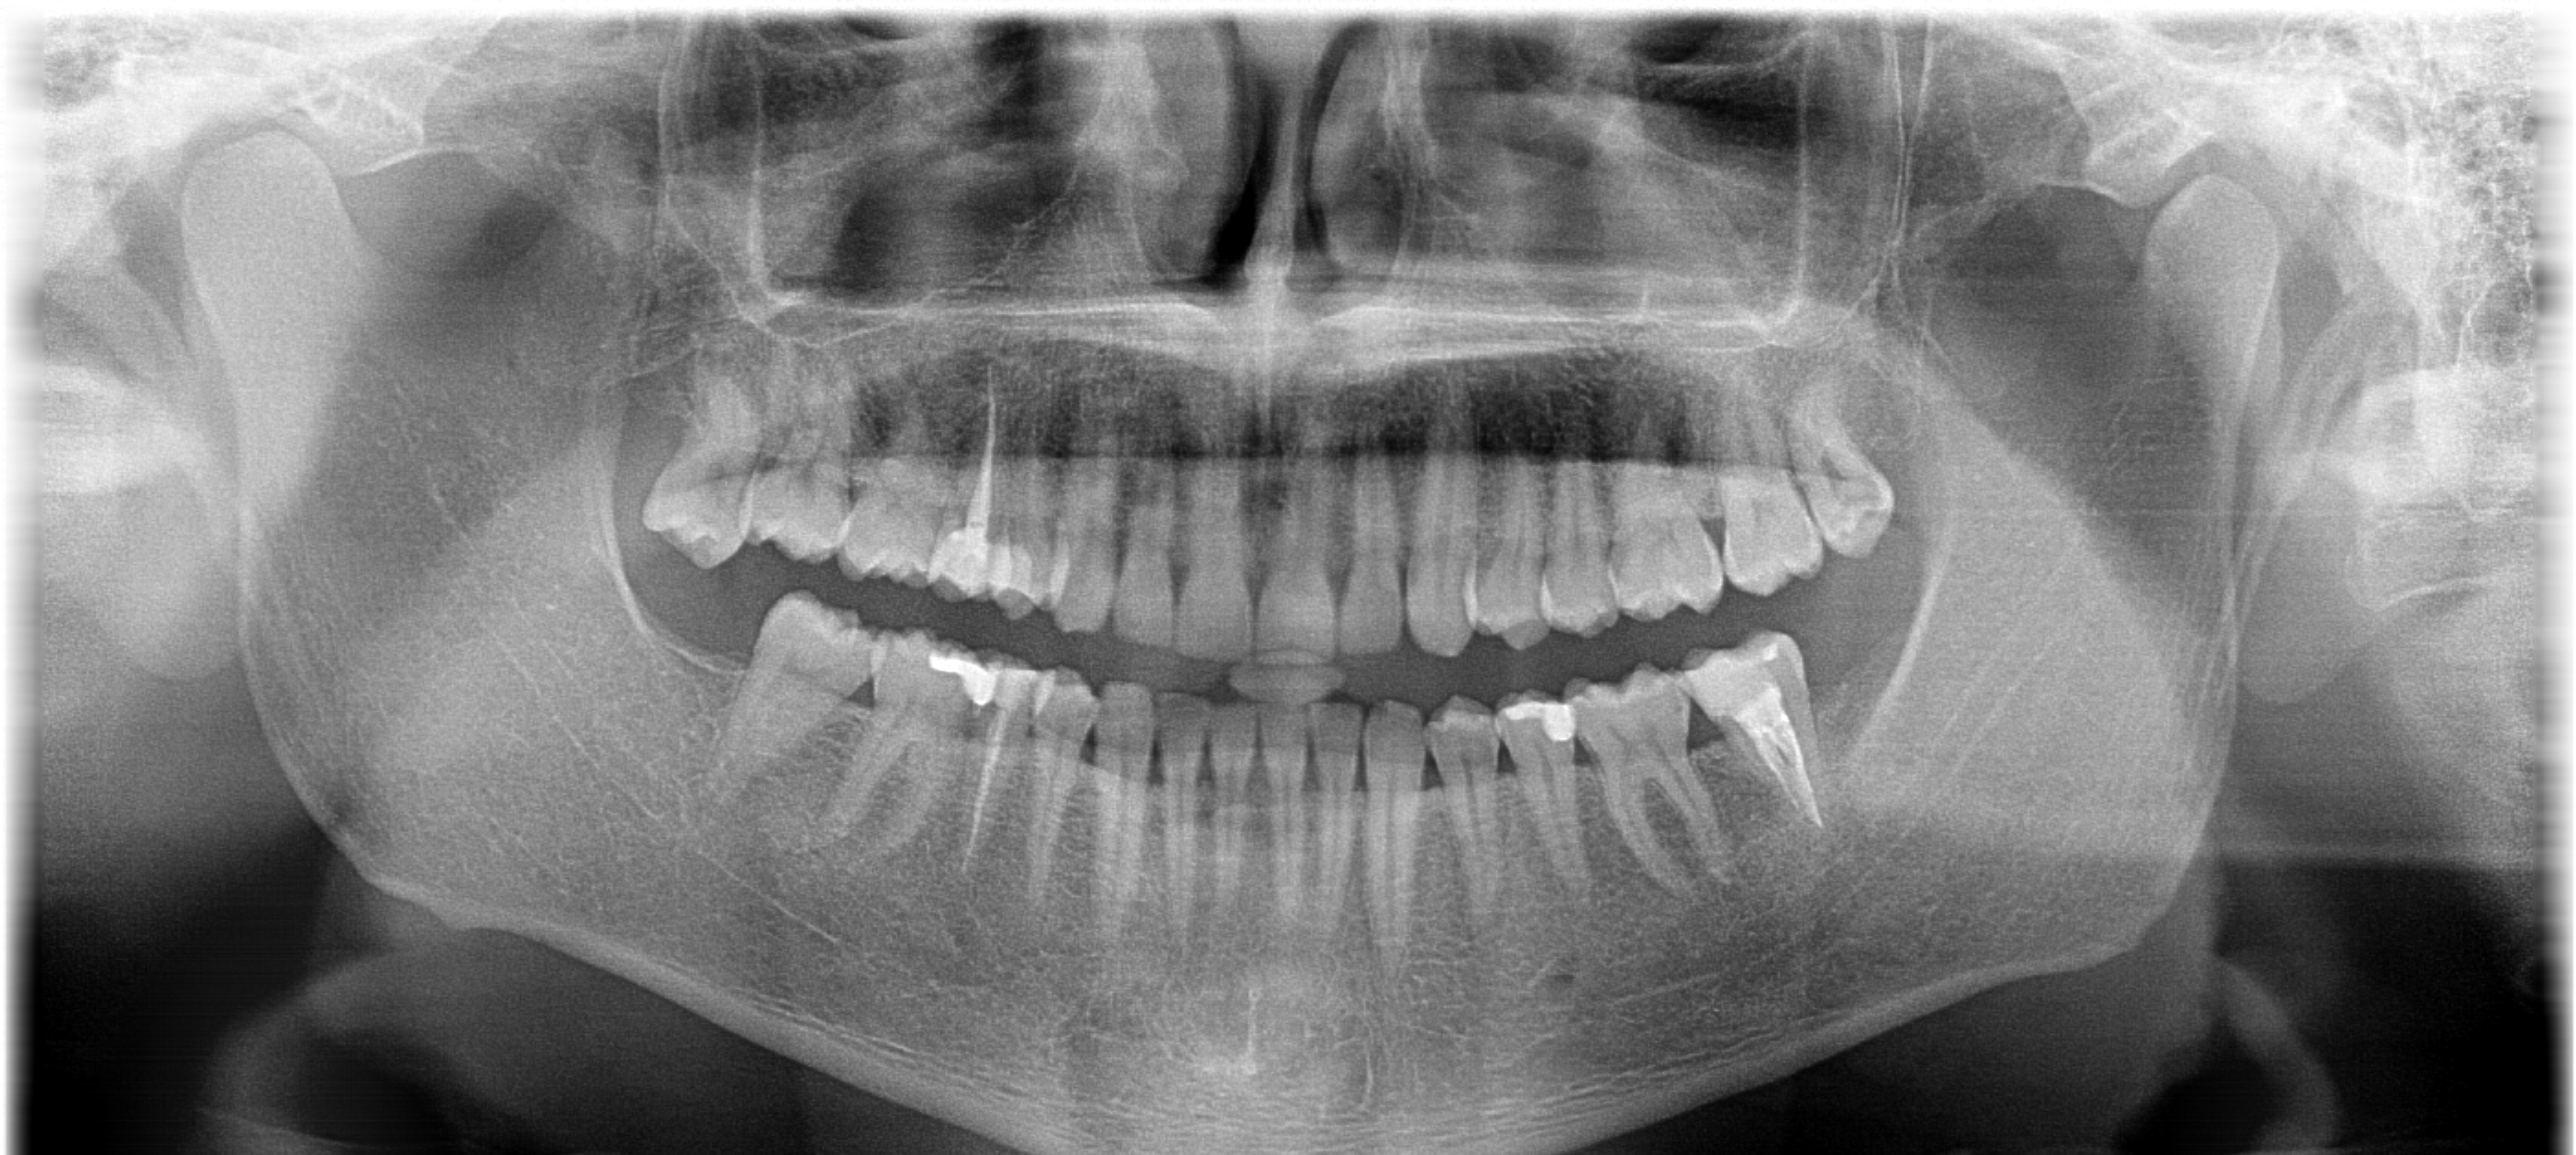cordal: (1758, 334, 1942, 577), (619, 342, 803, 583)
tratamiento_conducto: (915, 322, 1070, 639), (1663, 618, 1842, 889), (930, 639, 1066, 905)
